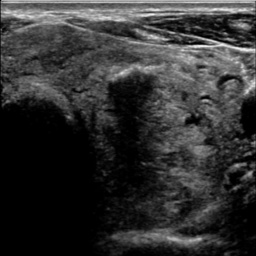mass: (150, 59, 203, 101)
